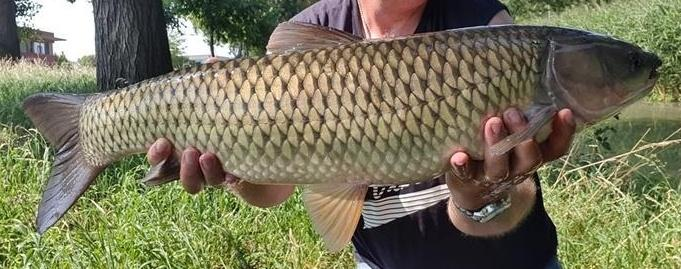Grass Carp: (21, 20, 662, 255)
